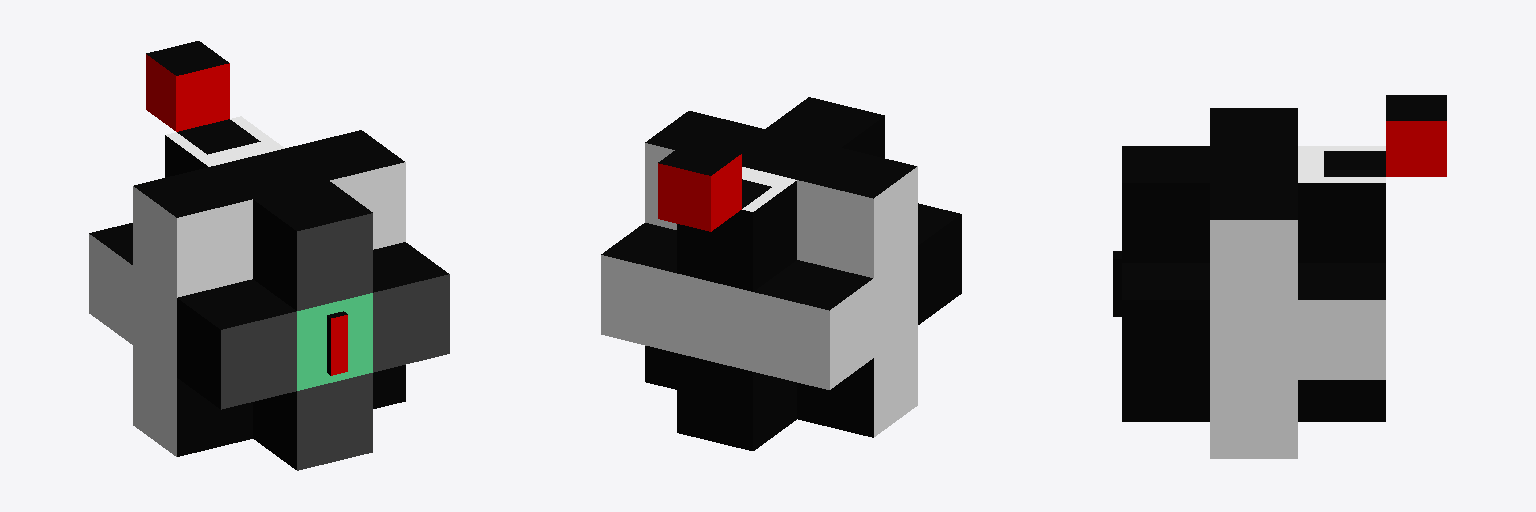
Rendered from EnemySummon.obj.
The picture shows the model from 3 angles: view 1: azimuth 30°, elevation 25°; view 2: azimuth 150°, elevation 25°; view 3: azimuth 270°, elevation 25°; orthographic projection.
Parts seen in each view (by area): view 1: pCube2; view 2: pCube2; view 3: pCube2.
Part boxes in pixels (bbox=[...]): pCube2: bbox=[89, 41, 449, 470]; pCube2: bbox=[601, 97, 961, 450]; pCube2: bbox=[1113, 95, 1446, 458].
Size of the model in its own units: 0.6 by 0.74 by 0.76.